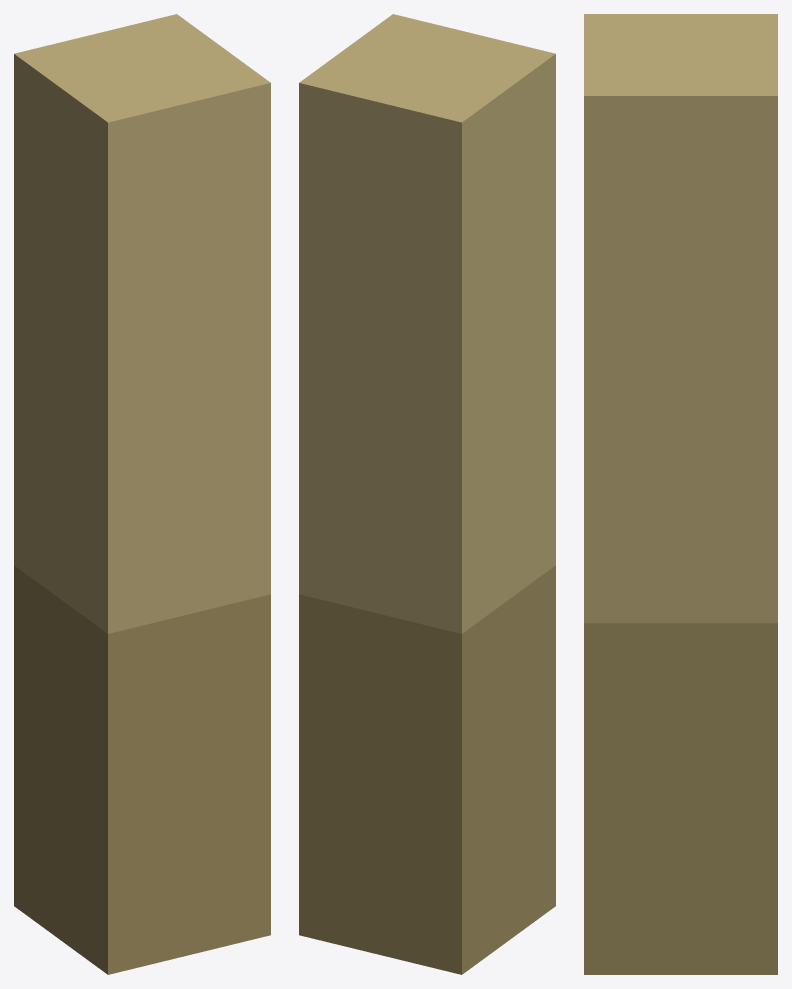
The model's file is needle.glb.
3 views of the same model, side by side, from view 1: azimuth 30°, elevation 25°; view 2: azimuth 150°, elevation 25°; view 3: azimuth 270°, elevation 25° (orthographic). The views are drawn at different scales.
Bounding box in the file's own units: 1 × 5 × 1.
